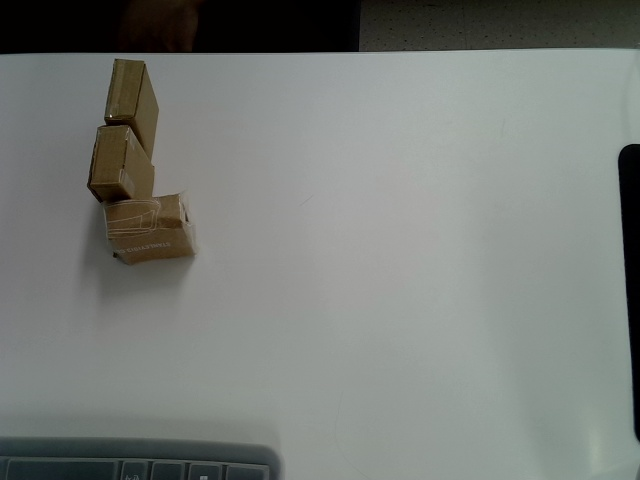defect: (102, 192, 197, 265)
normal: (104, 59, 160, 158), (87, 126, 156, 204)
